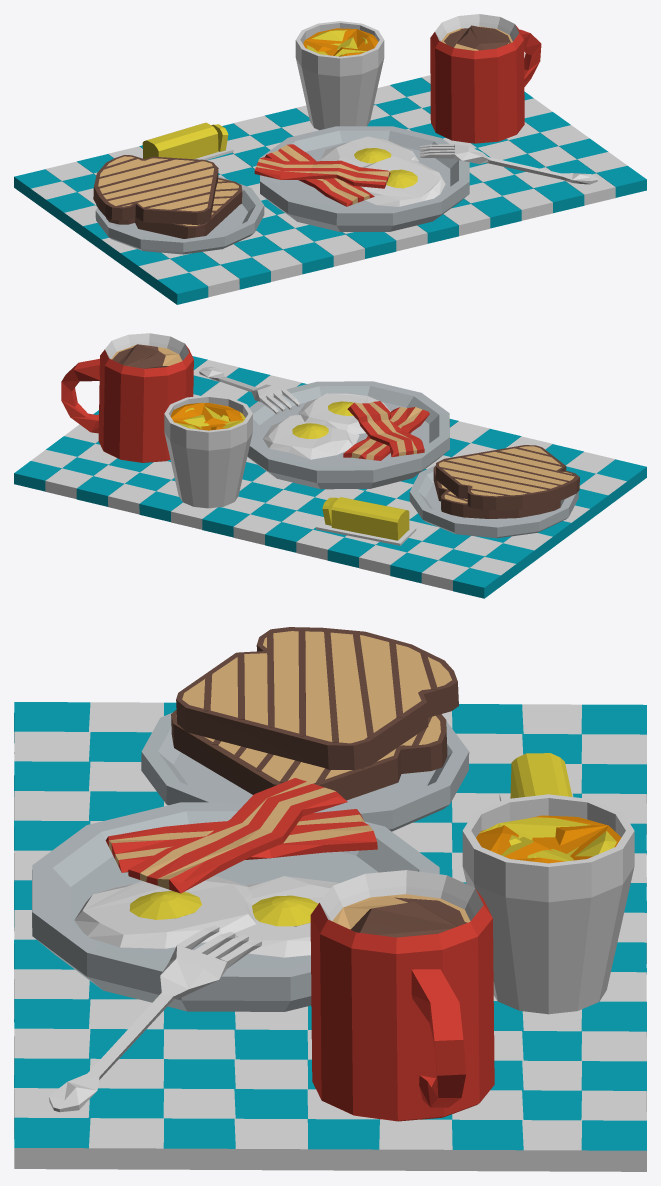
Rendered from Breakfast.glb.
3 views of the same model, one above another, from view 1: azimuth 30°, elevation 25°; view 2: azimuth 150°, elevation 25°; view 3: azimuth 270°, elevation 25° (orthographic). The views are drawn at different scales.
Visible parts, largest first — view 1: node_MeshObject461256640-PolyPaper4; view 2: node_MeshObject461256640-PolyPaper4; view 3: node_MeshObject461256640-PolyPaper4.
Boxes of the visible parts, x1,y1,x2,y2 form: node_MeshObject461256640-PolyPaper4: [14, 14, 646, 304]; node_MeshObject461256640-PolyPaper4: [14, 333, 646, 598]; node_MeshObject461256640-PolyPaper4: [14, 627, 646, 1171].
Bounding box in the file's own units: 0.4532 × 0.0957 × 0.2702.
